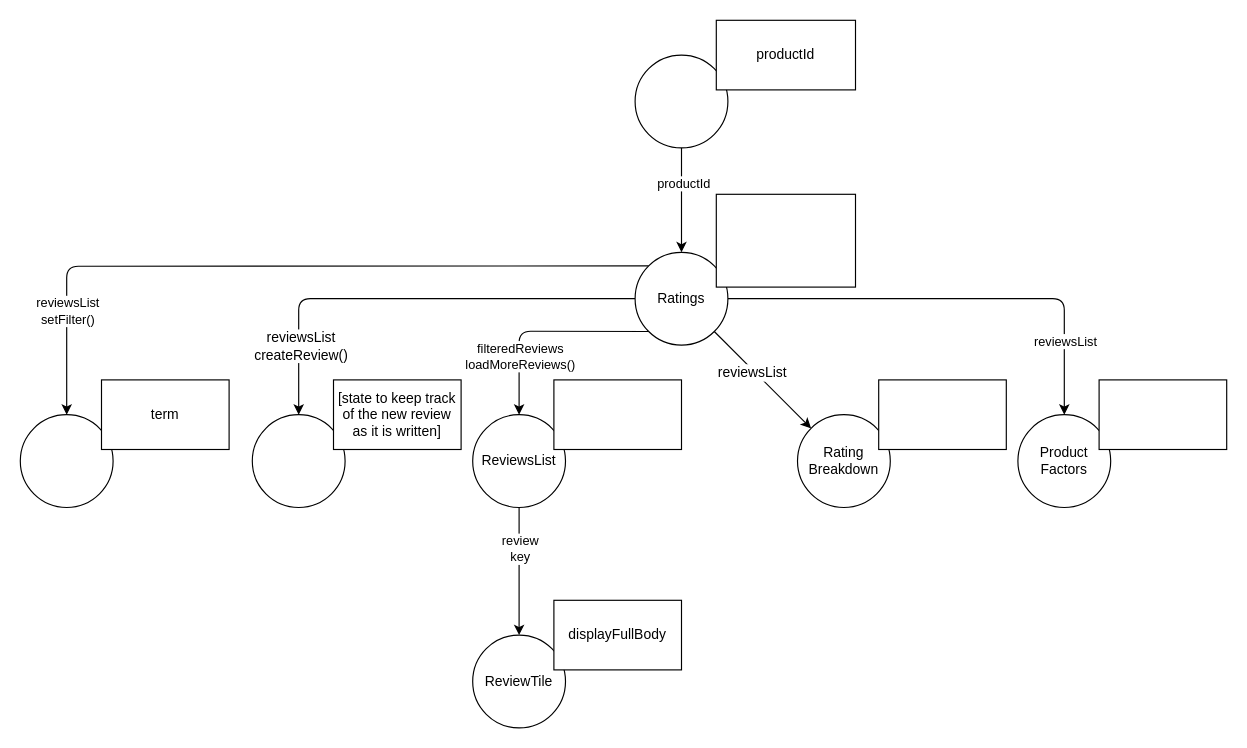
Image size: 1247x748. Some labels were removed from this diagram. The shapes that lost their labels are listed below. From the top down, each one's box as (x1, y1, x2, y2) in pixels, then its label:
(634, 54, 728, 148): App
(715, 193, 855, 287): reviewsList filteredReviews filter reviewCount reviewsPerLoad
(19, 414, 113, 507): Keyword Search
(251, 414, 345, 507): Create Review
